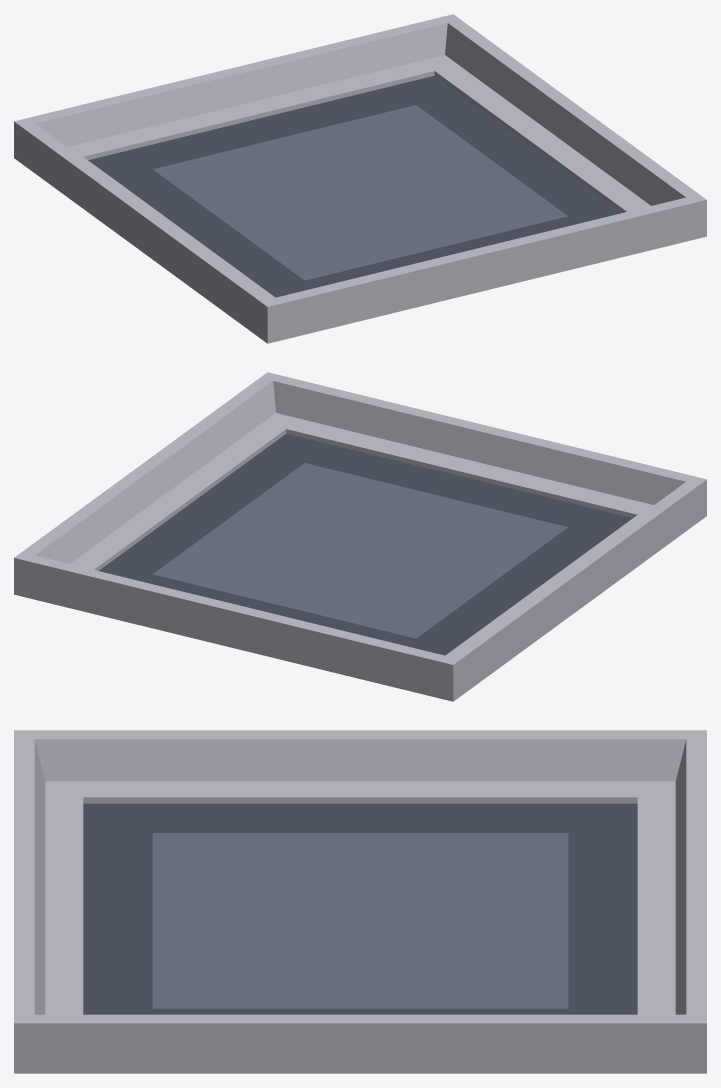
File: road_square.glb
3 views of the same model, one above another, from view 1: azimuth 30°, elevation 25°; view 2: azimuth 150°, elevation 25°; view 3: azimuth 270°, elevation 25° (orthographic). The views are drawn at different scales.
Visible parts, largest first — view 1: road_square_e2506c, road_square_d9605f, road_square_404f58, road_square_71d03a; view 2: road_square_e2506c, road_square_d9605f, road_square_404f58, road_square_71d03a; view 3: road_square_e2506c, road_square_d9605f, road_square_404f58, road_square_71d03a.
Part boxes in pixels (bbox=[...]): road_square_e2506c: bbox=[14, 14, 706, 343]; road_square_d9605f: bbox=[153, 105, 567, 280]; road_square_404f58: bbox=[88, 75, 621, 297]; road_square_71d03a: bbox=[14, 55, 706, 343]; road_square_e2506c: bbox=[14, 372, 706, 700]; road_square_d9605f: bbox=[153, 463, 567, 638]; road_square_404f58: bbox=[99, 433, 632, 655]; road_square_71d03a: bbox=[14, 413, 706, 701]; road_square_e2506c: bbox=[14, 730, 706, 1073]; road_square_d9605f: bbox=[152, 833, 568, 1008]; road_square_404f58: bbox=[83, 803, 637, 1014]; road_square_71d03a: bbox=[14, 781, 706, 1073].
Size of the model in its own units: 1 by 0.08 by 1.
